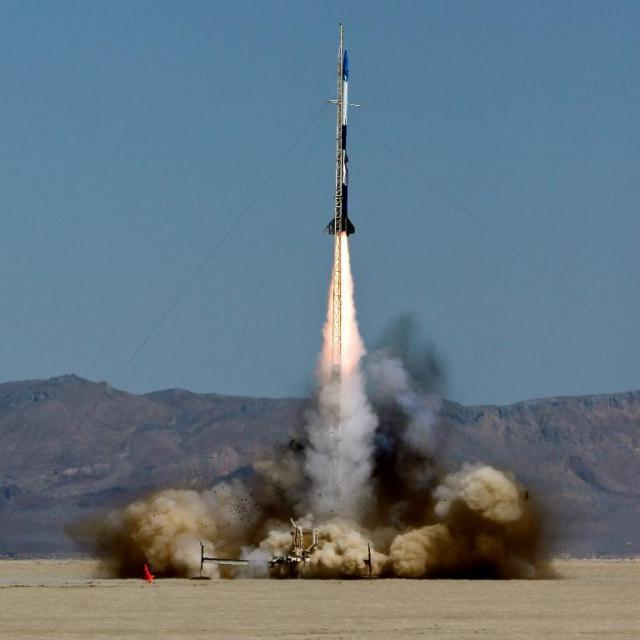missile: (328, 48, 362, 237)
